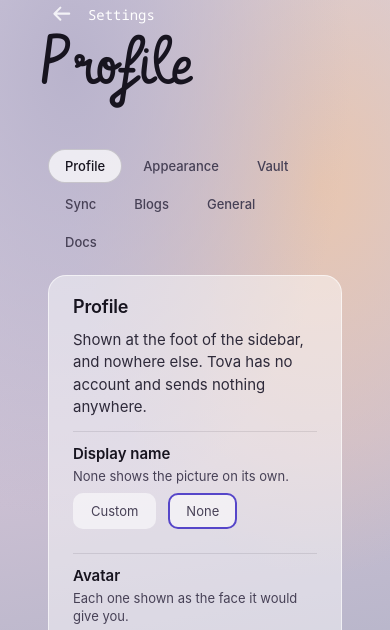
Settings › names the tab it is showing
Click the tab "Appearance".
click(181, 166)  # box left=126, top=149, right=236, bottom=183
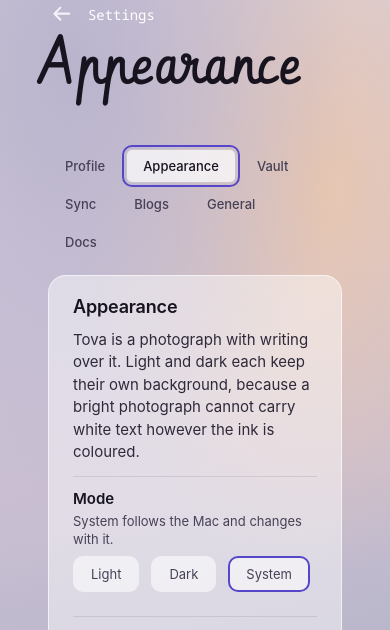
expect the heading "Appearance" below "Settings" is shown: met, box left=40, top=21, right=299, bottom=110
